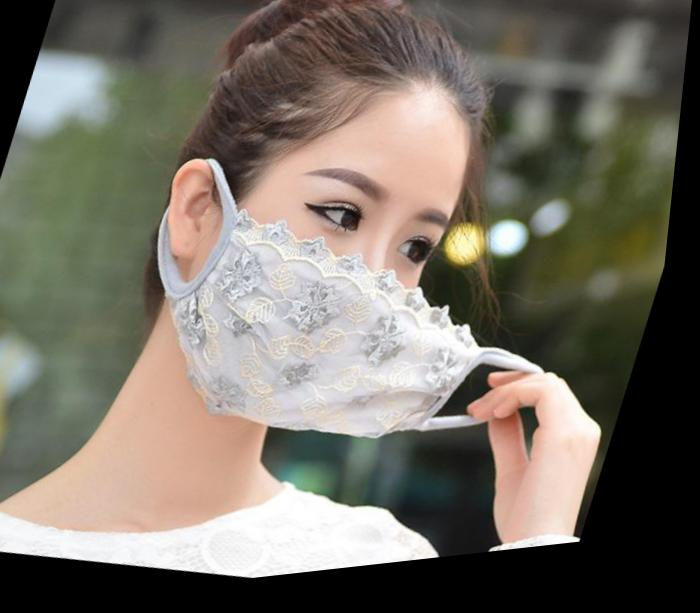WRONG: (173, 106, 491, 471)
